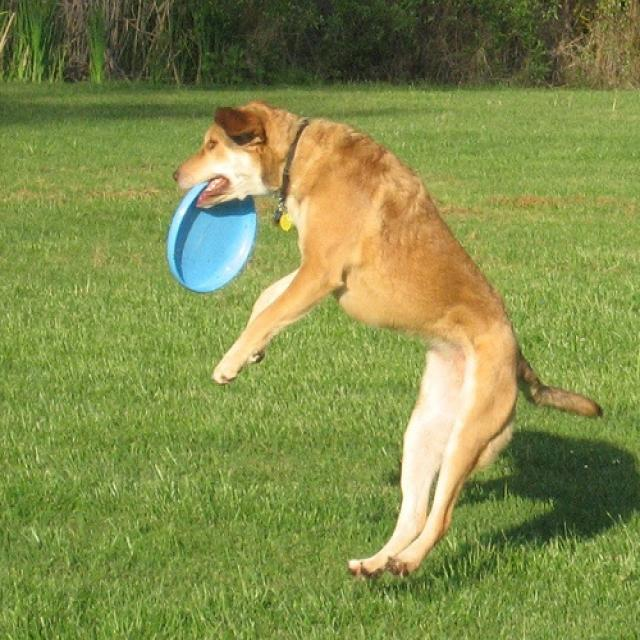dog: (171, 100, 603, 580)
